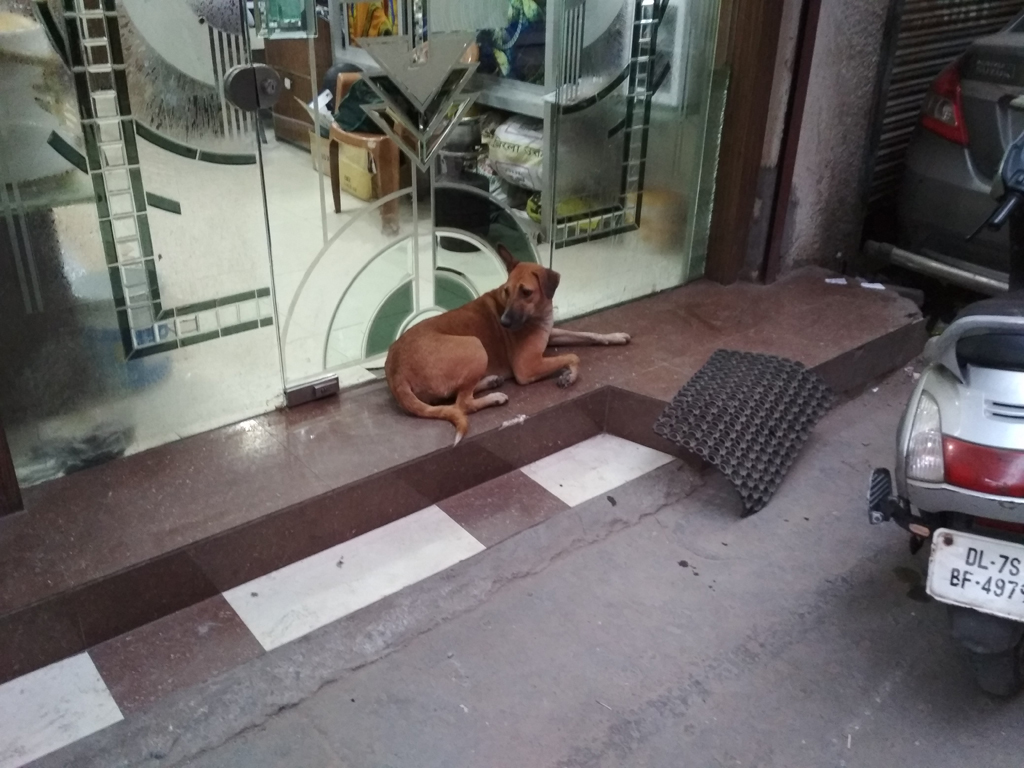dog: (385, 263, 633, 447)
